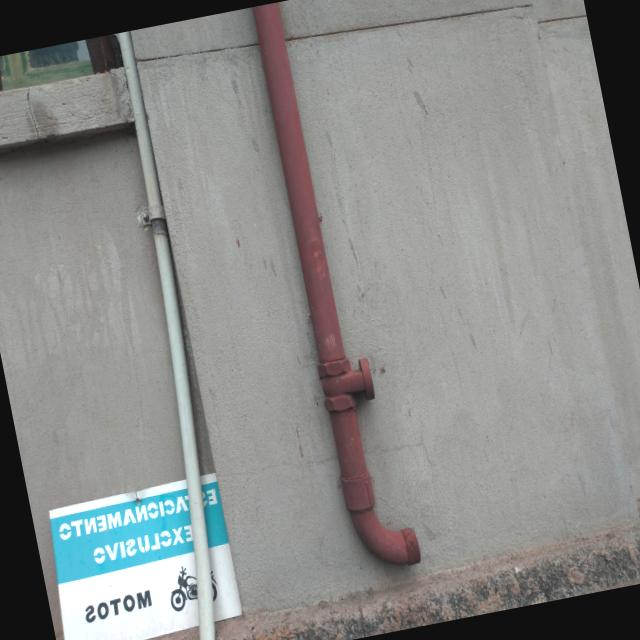gas: (253, 2, 420, 566)
